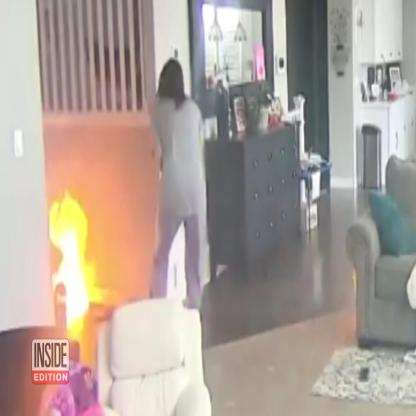fire: (48, 189, 102, 338)
